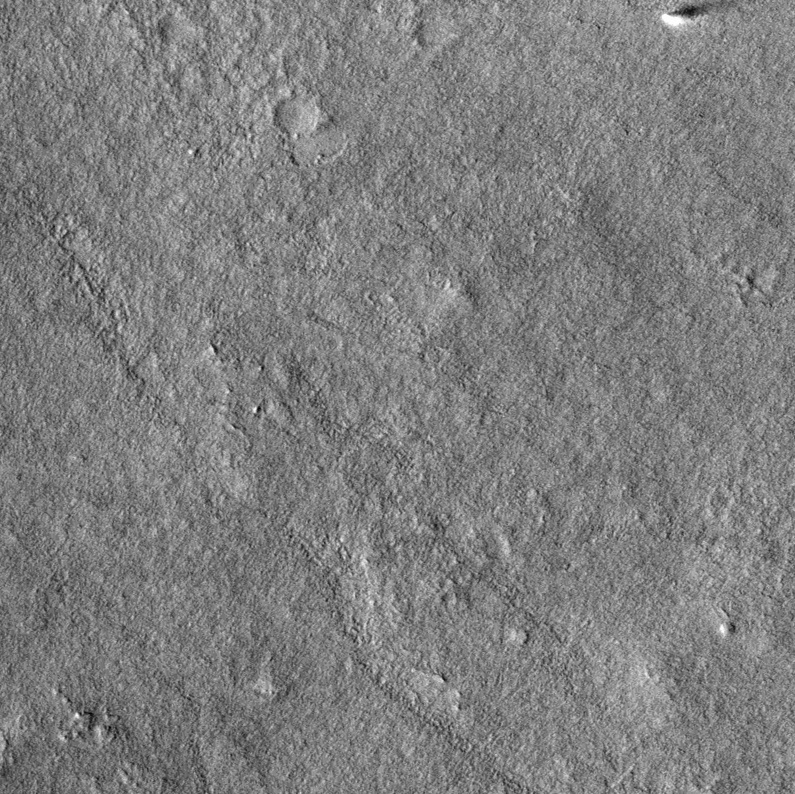dust_devil: (661, 3, 711, 28)
